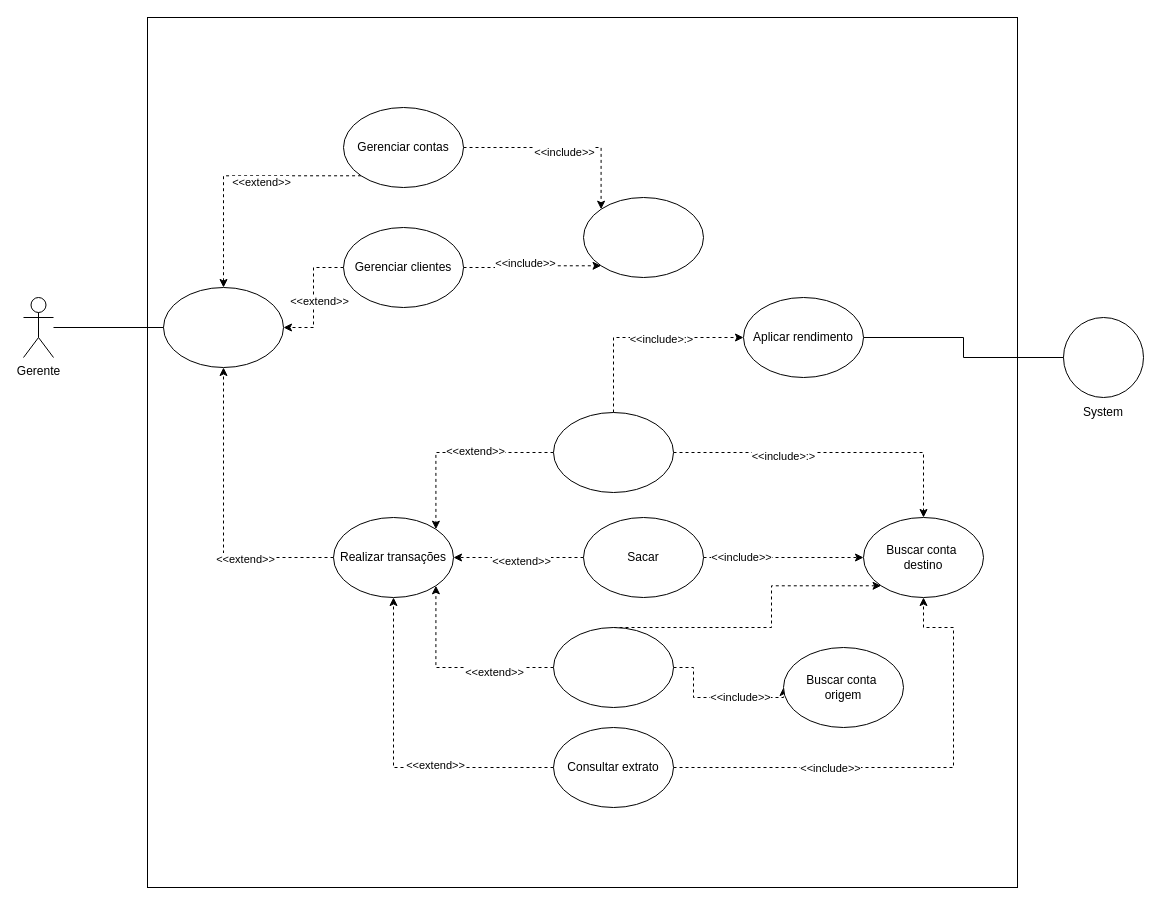
Image size: 1161x905. Some labels were removed from this diagram. The shapes that lost their labels are listed below. From the top down, each one's centre as x and y in pixels, then its label:
At (643,237): "Manter".
At (223,327): "Realizar login".
At (613,452): "Depositar".
At (613,667): "Transferir".
